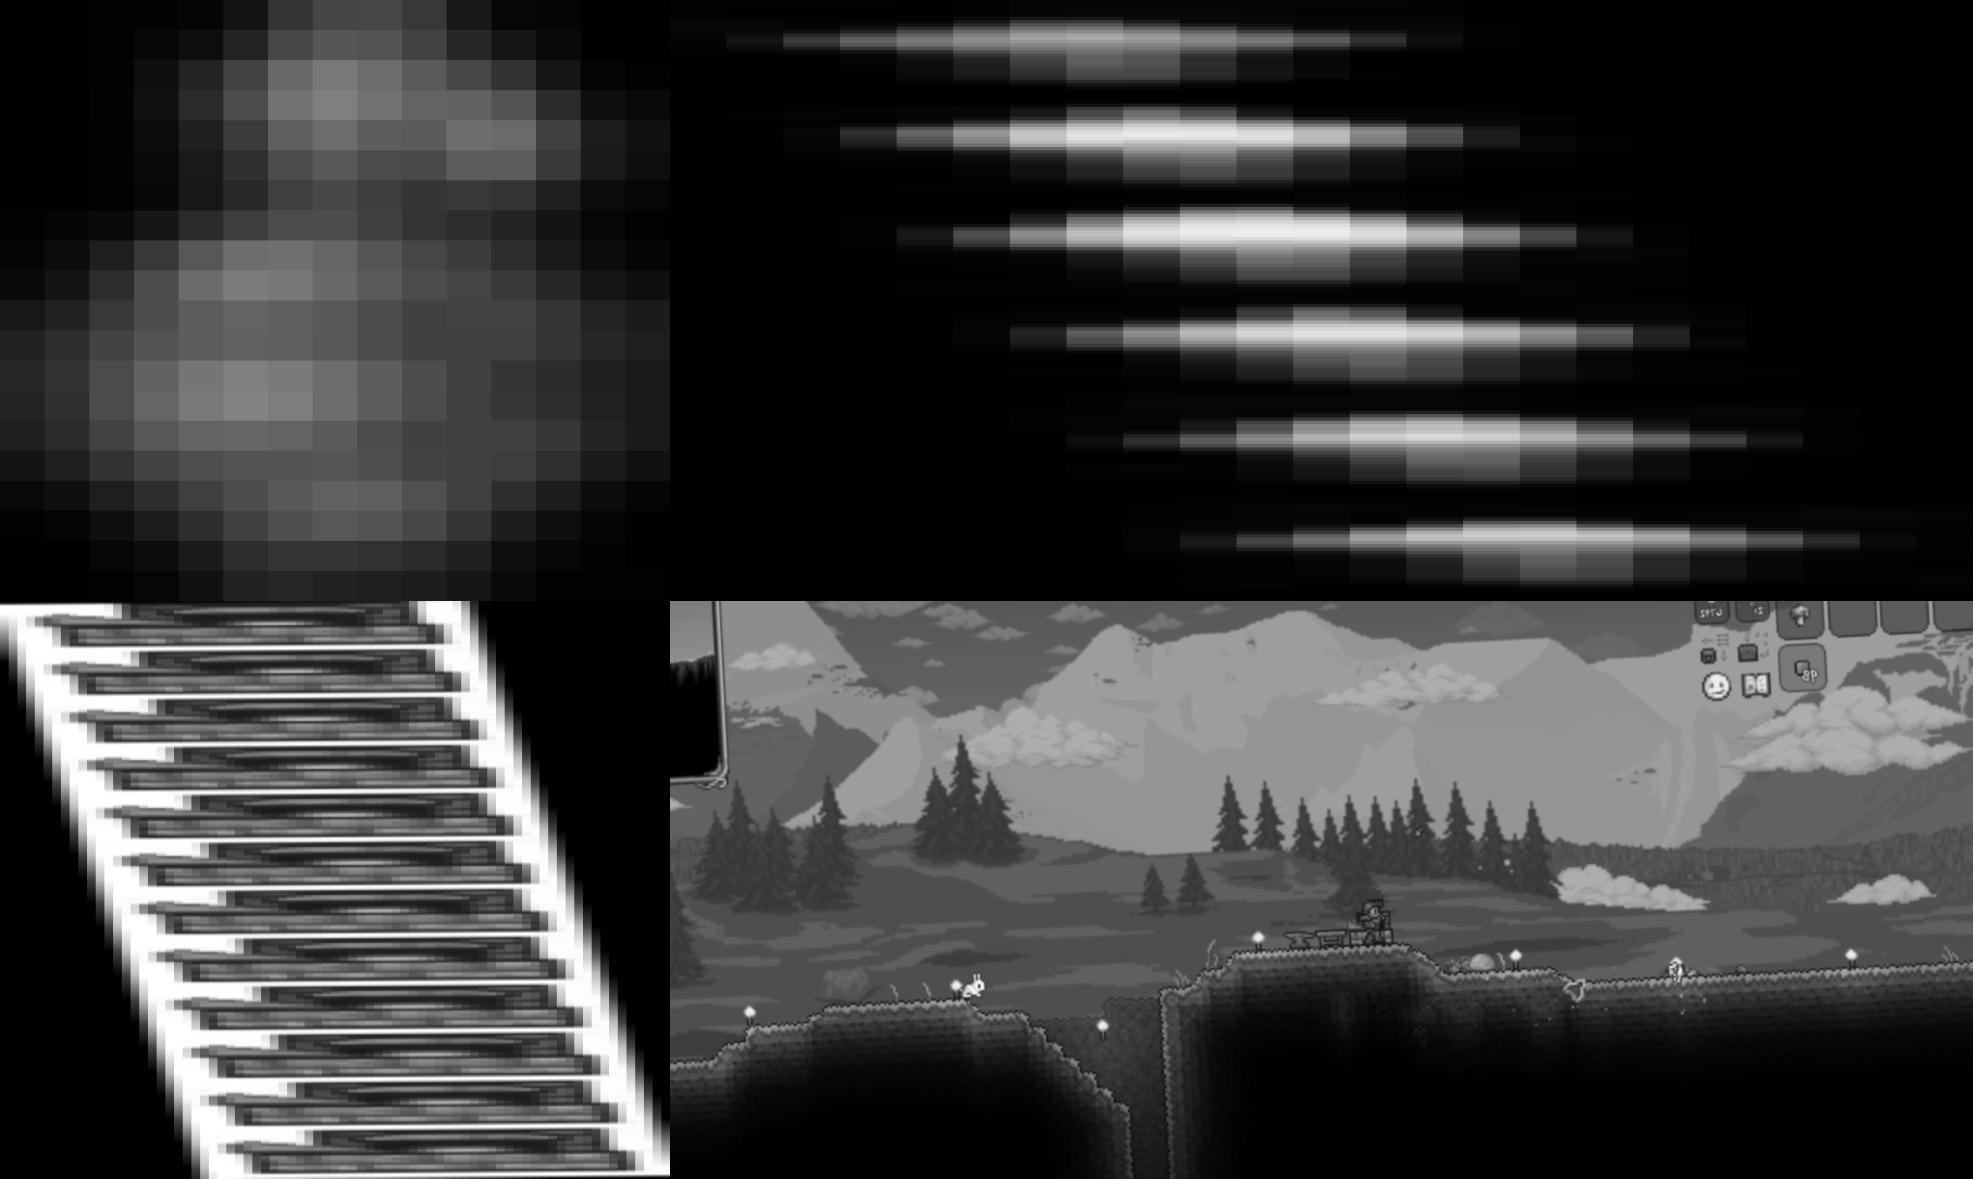furnace: (21, 601, 466, 648)
grenade: (0, 0, 669, 601)
torchT: (669, 13, 1520, 93)
